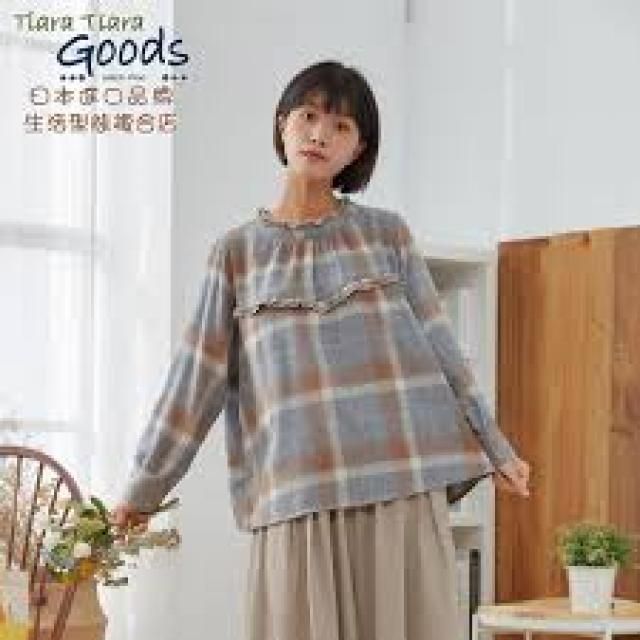plaid: (200, 211, 496, 511)
